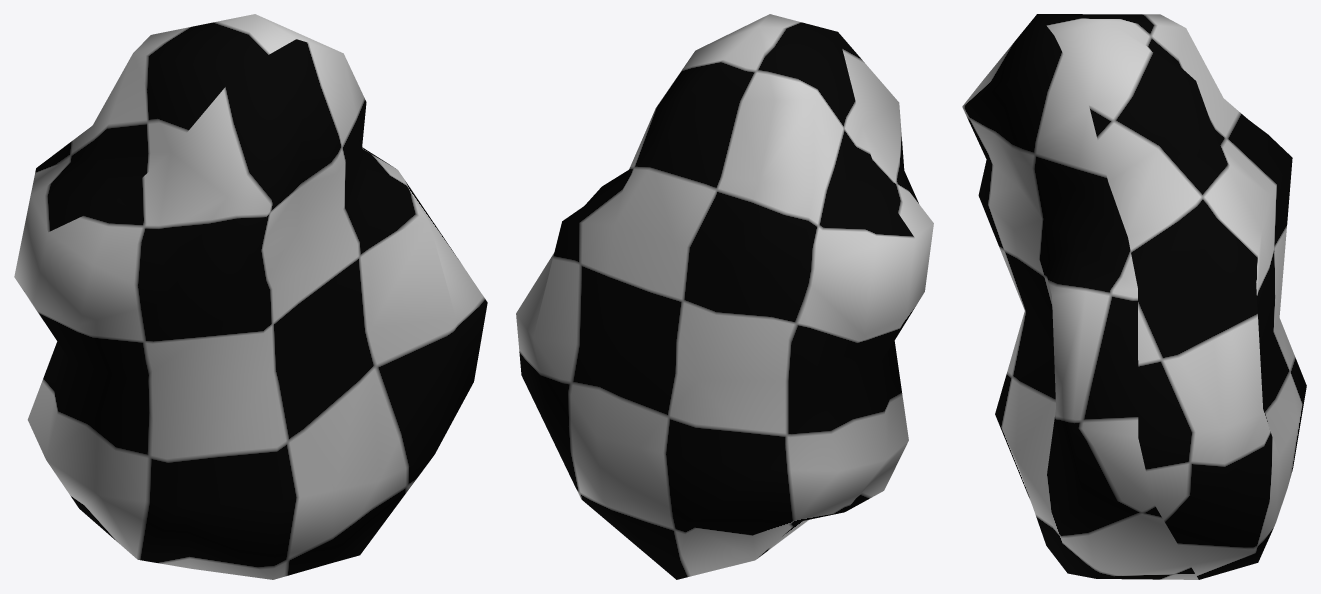
Rendered from asset-mmo-phobos.obj.
3 renders of one model, left to right at view 1: azimuth 30°, elevation 25°; view 2: azimuth 150°, elevation 25°; view 3: azimuth 270°, elevation 25°, orthographic. The views are drawn at different scales.
Parts seen in each view (by area): view 1: asset_mmo_phobos; view 2: asset_mmo_phobos; view 3: asset_mmo_phobos.
Part boxes in pixels (x1,y1,x2,y2): asset_mmo_phobos: [14, 14, 487, 579]; asset_mmo_phobos: [516, 14, 933, 579]; asset_mmo_phobos: [962, 14, 1306, 579].
Size of the model in its own units: 1337 by 1744 by 997.
Materials: 1 (1 with a texture image).
